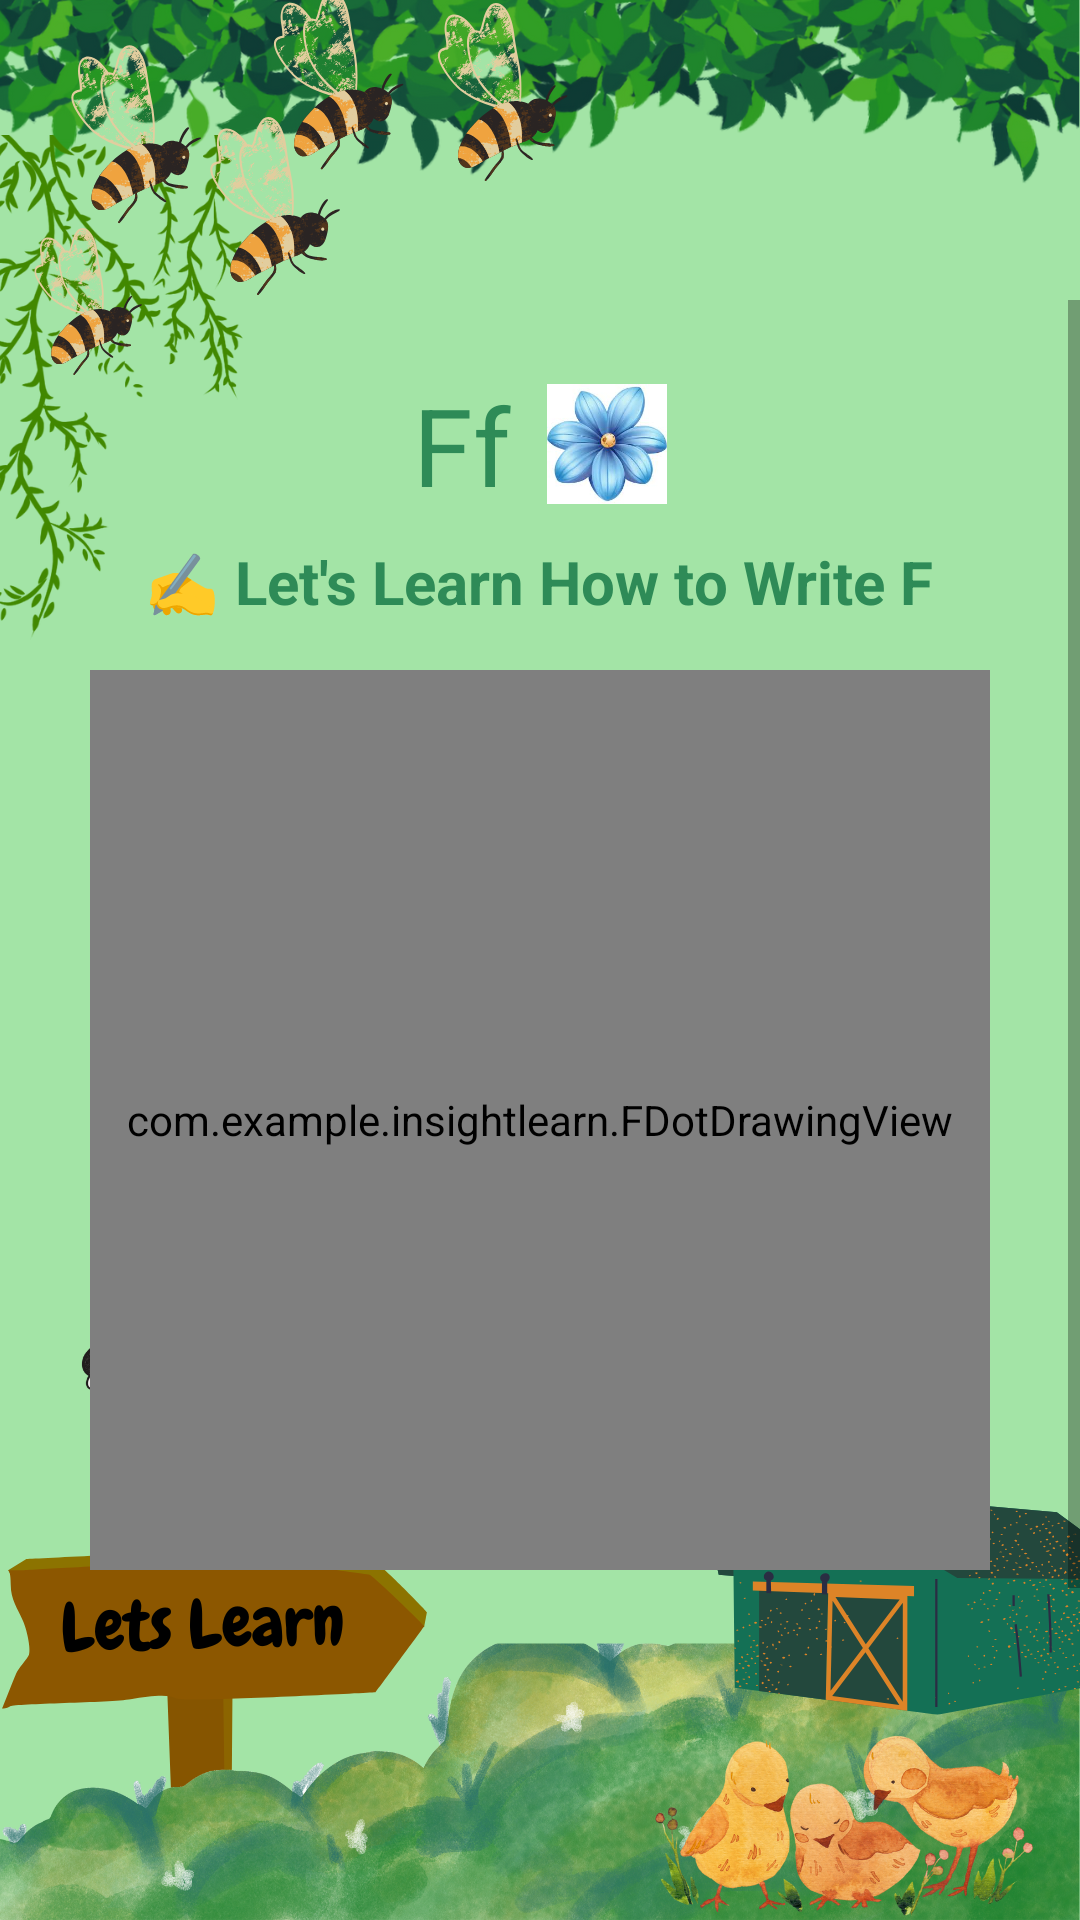

Point at icon controls on the screen. Image size 1080×1920, points as [x,y].
Flower: [607,444]
